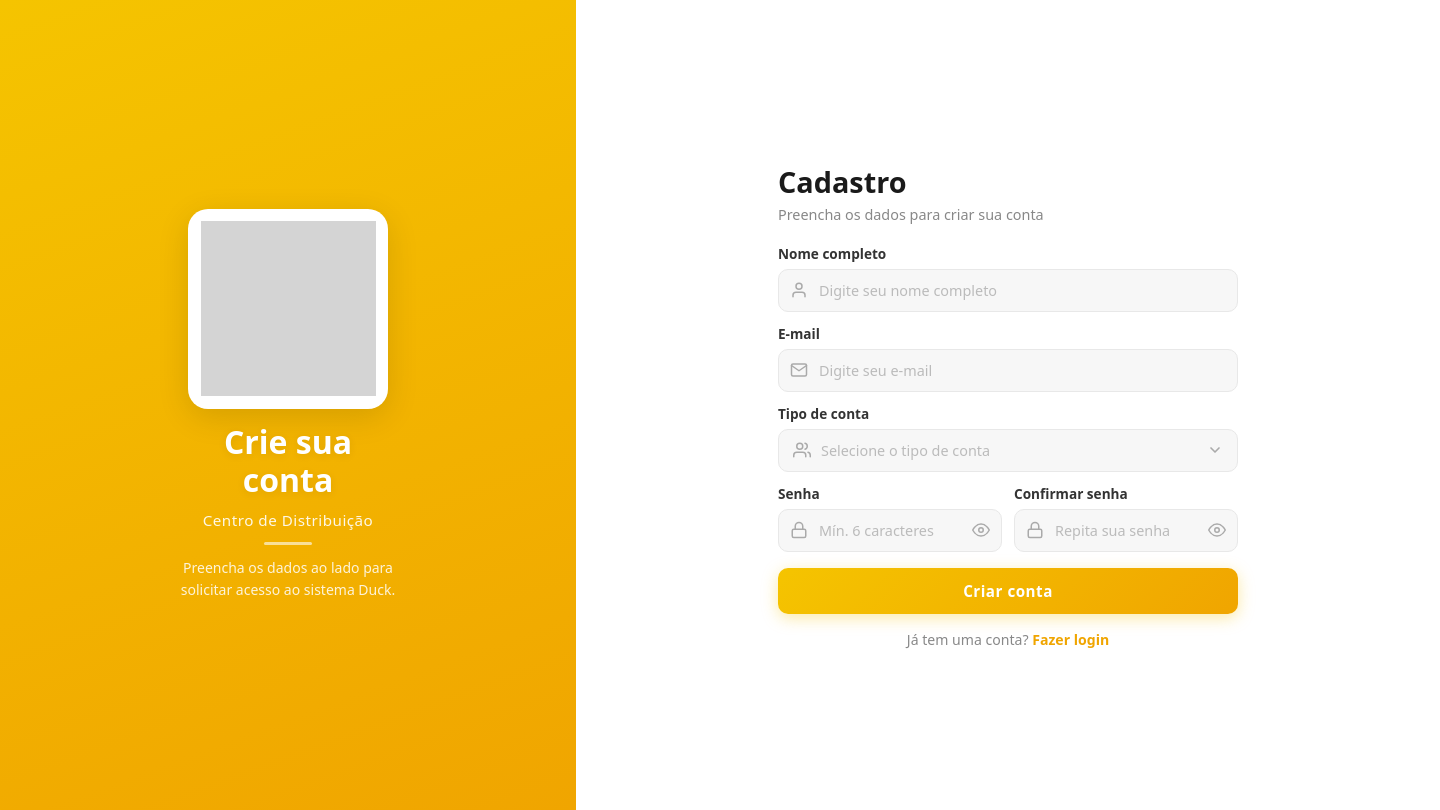
Tela de Cadastro › exibe erro quando nenhum tipo de conta e selecionado
In the field with placeholder "Digite seu nome completo": (1008,290) x1=778 y1=268 x2=1238 y2=312, type "Joao Silva"
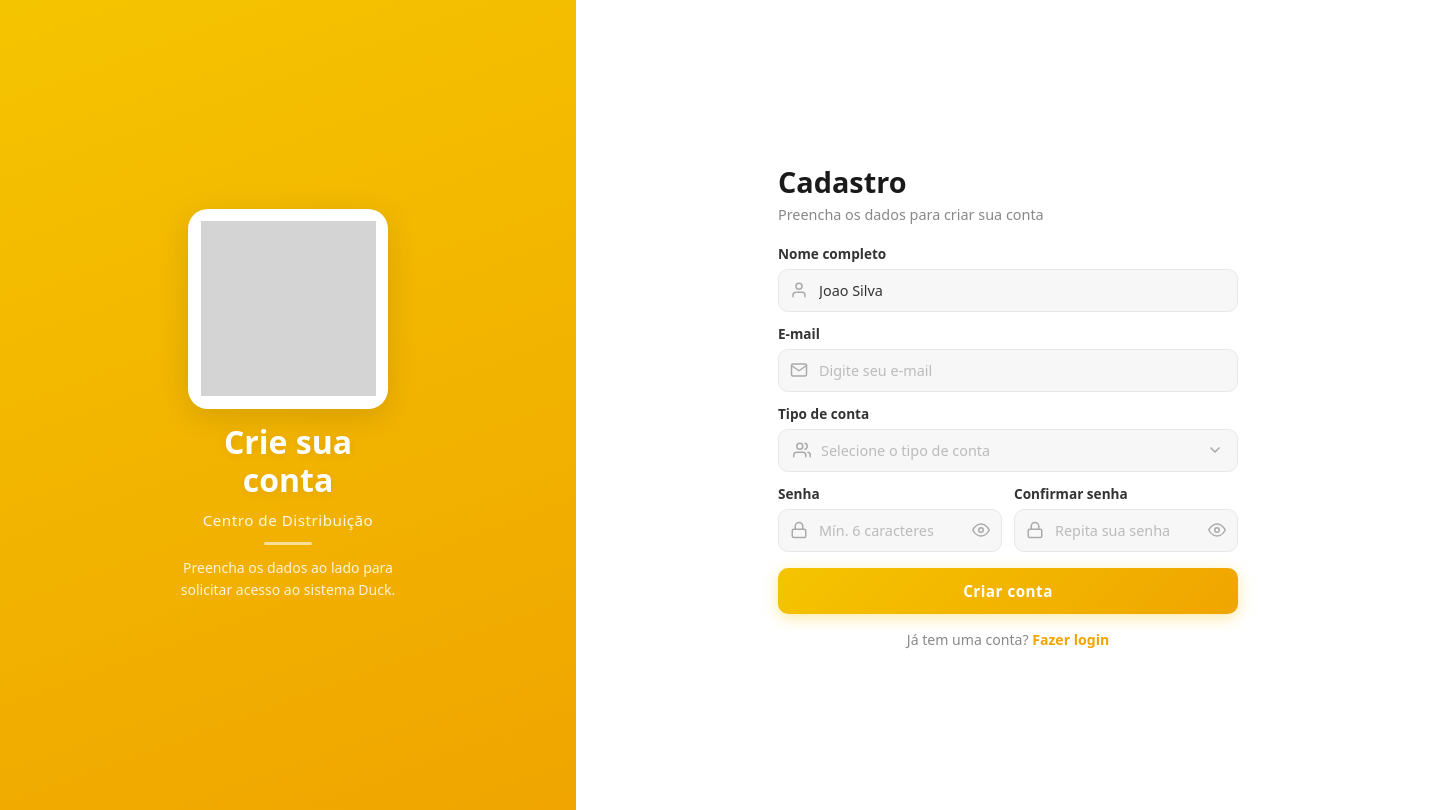
In the field with placeholder "Digite seu e-mail": (1008,370) x1=778 y1=348 x2=1238 y2=392, type "joao@email.com"
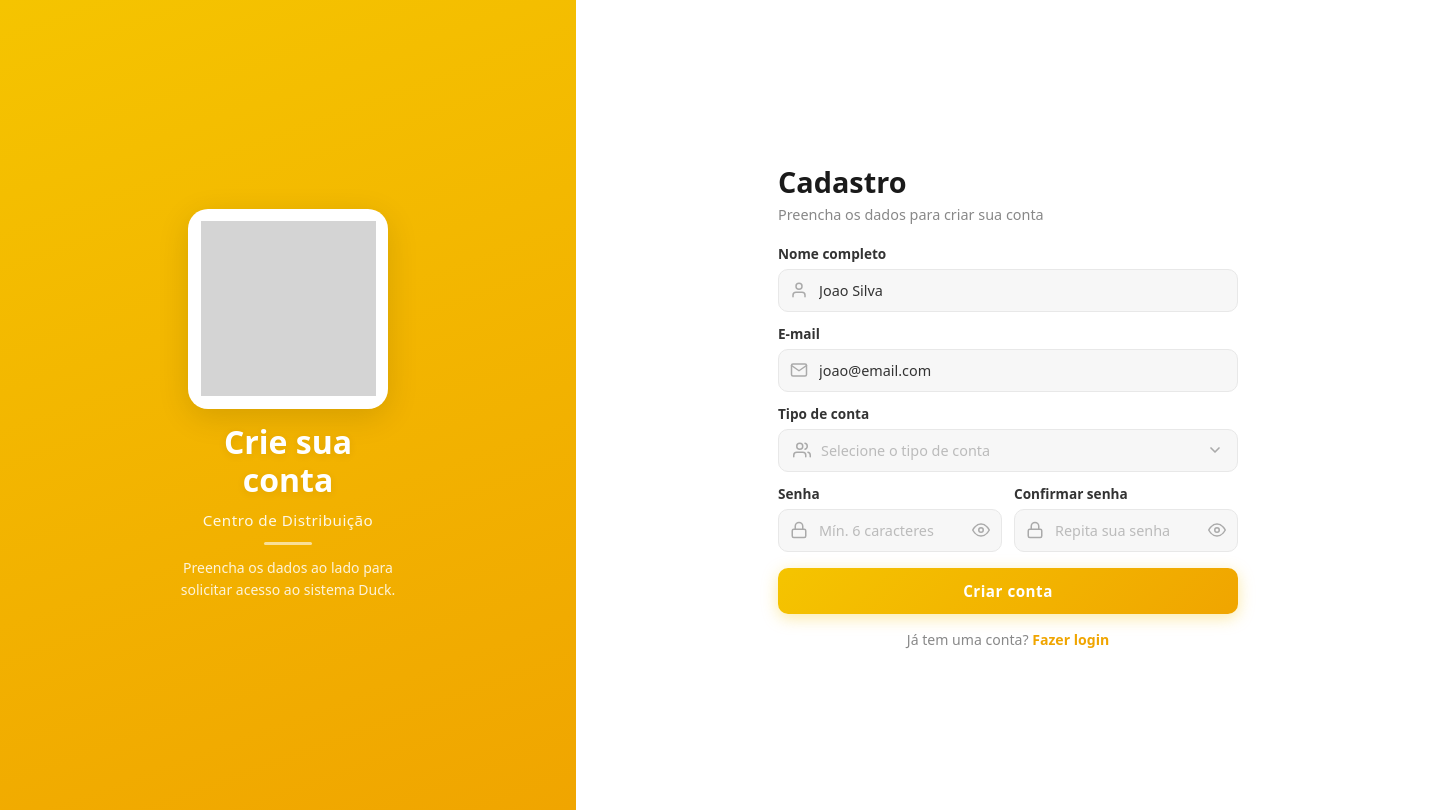
In the password field with placeholder "Mín. 6 caracteres": (890,530) x1=778 y1=508 x2=1002 y2=552, type "senha123"
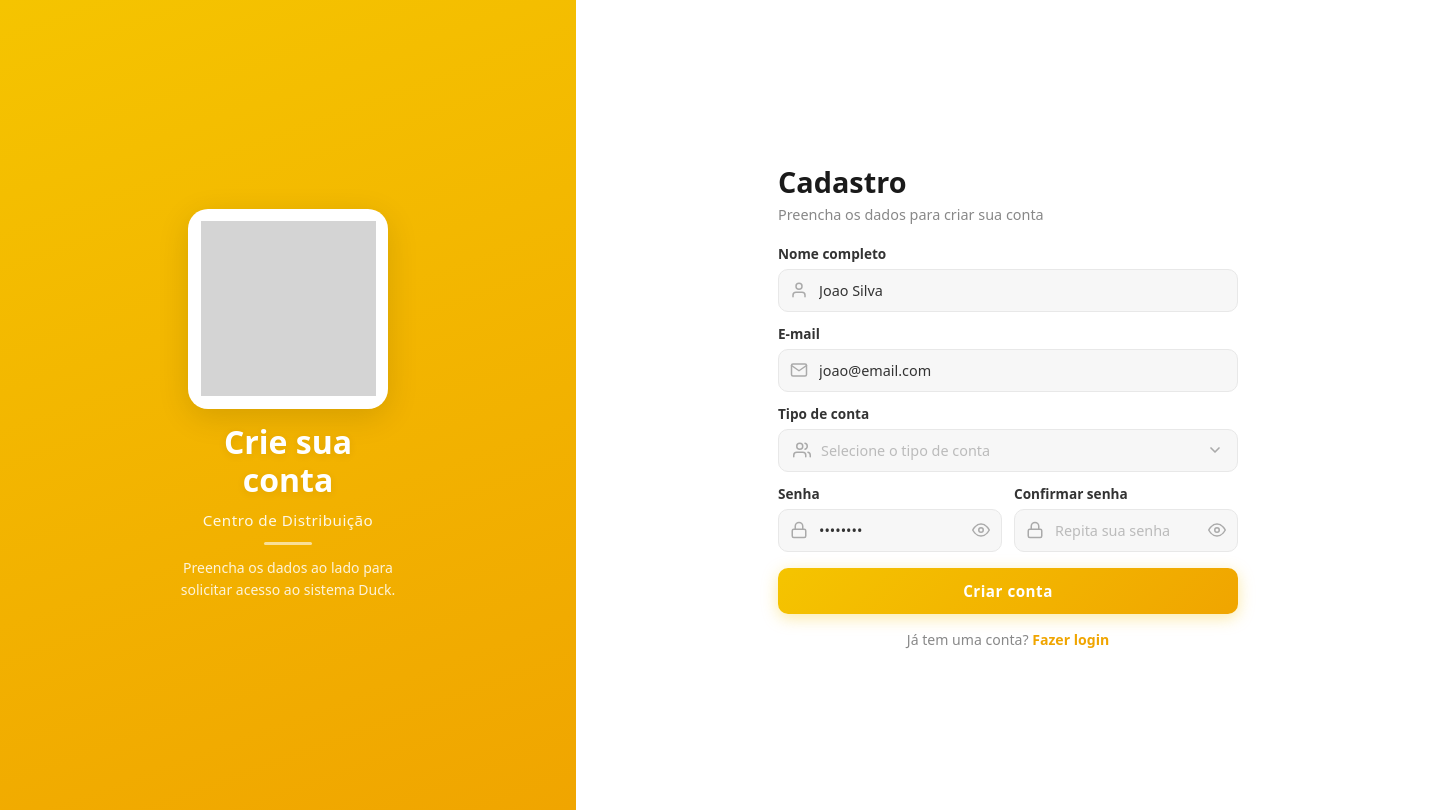
In the password field with placeholder "Repita sua senha": (1126,530) x1=1014 y1=508 x2=1238 y2=552, type "senha123"
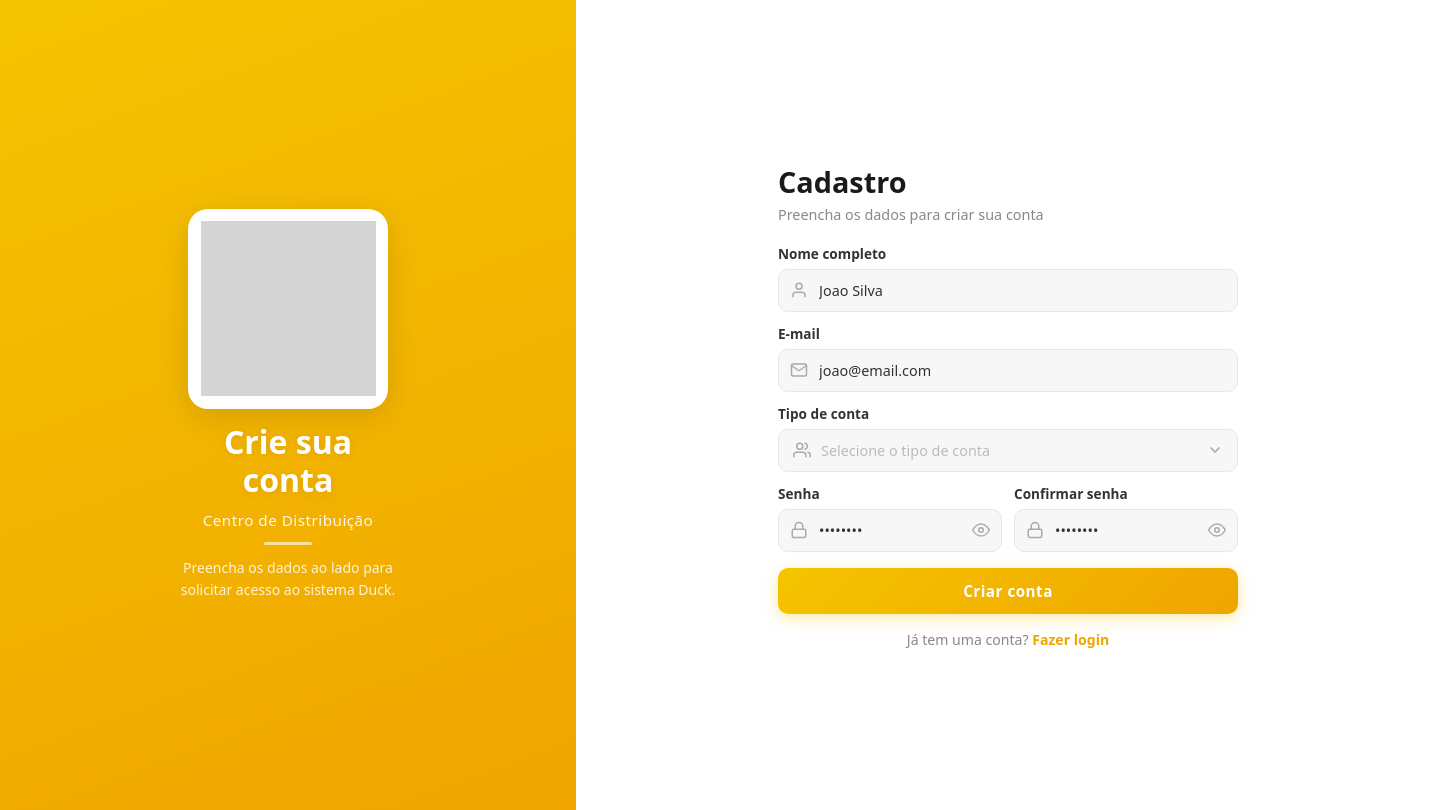
Click the button "Criar conta": (1008,590) x1=778 y1=568 x2=1238 y2=614
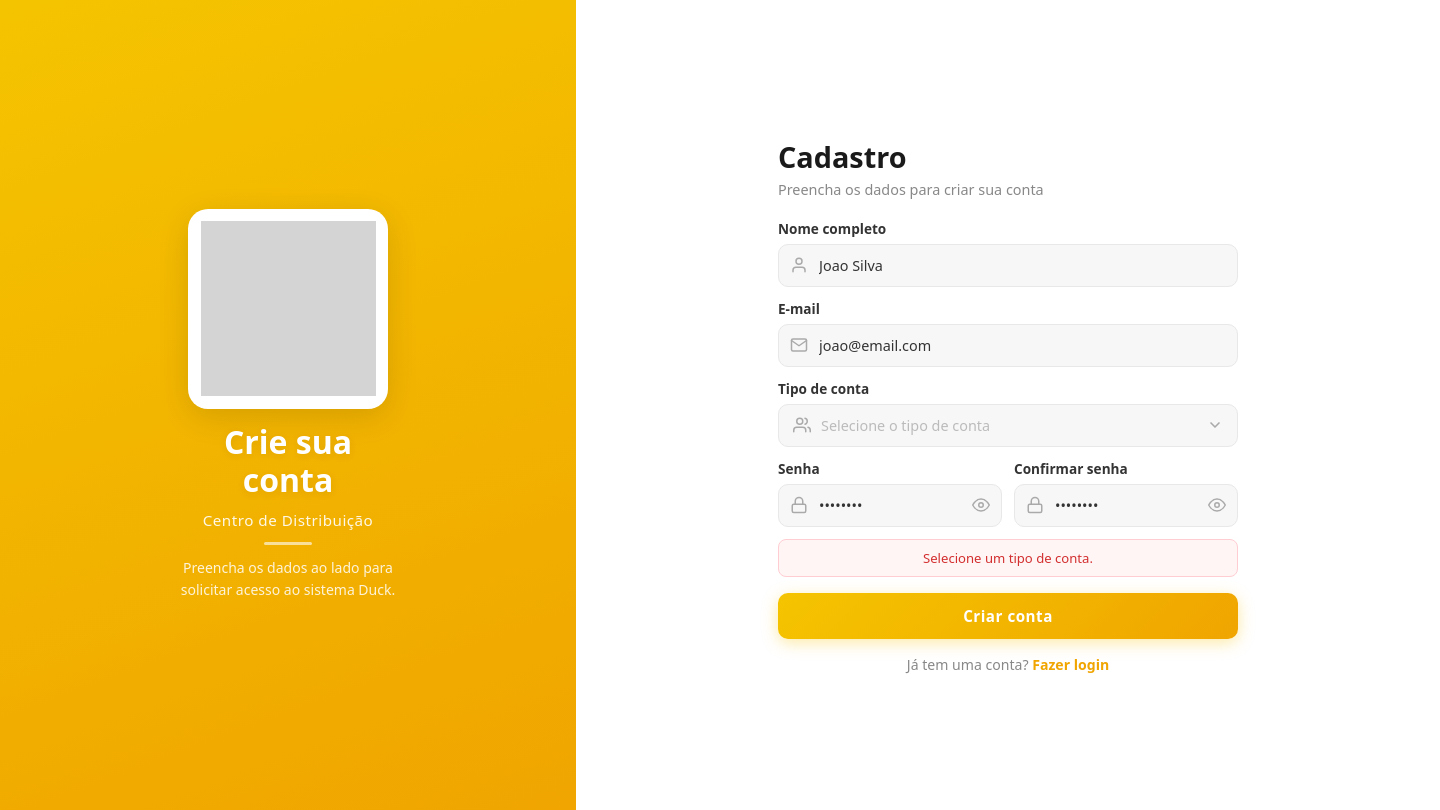
Expected: the text "Selecione um tipo de conta." is shown, x1=778 y1=538 x2=1238 y2=576
